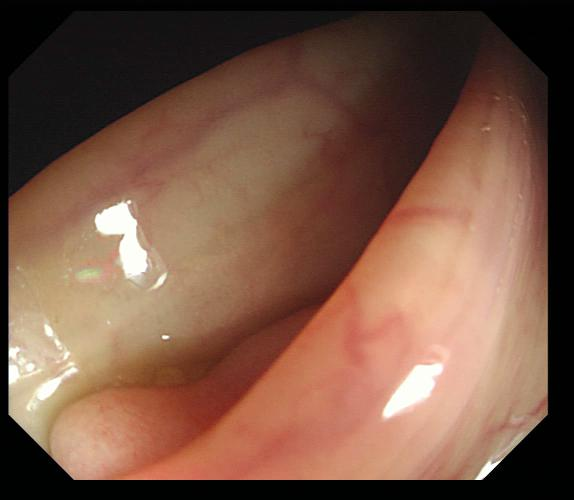polyp: (47, 306, 321, 474)
